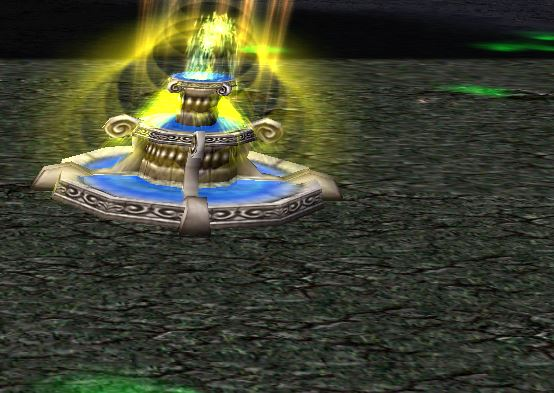sunwell: (37, 29, 351, 228)
